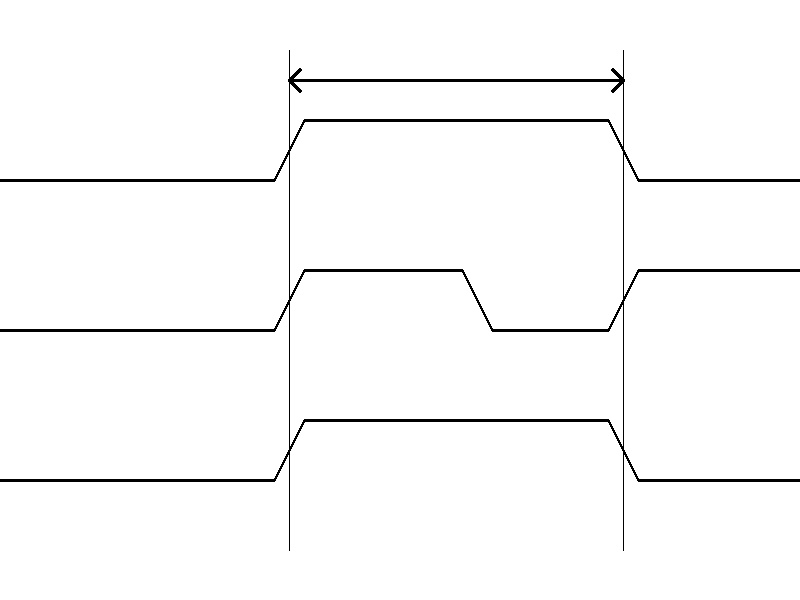double_arrow: (289, 65, 623, 95)
